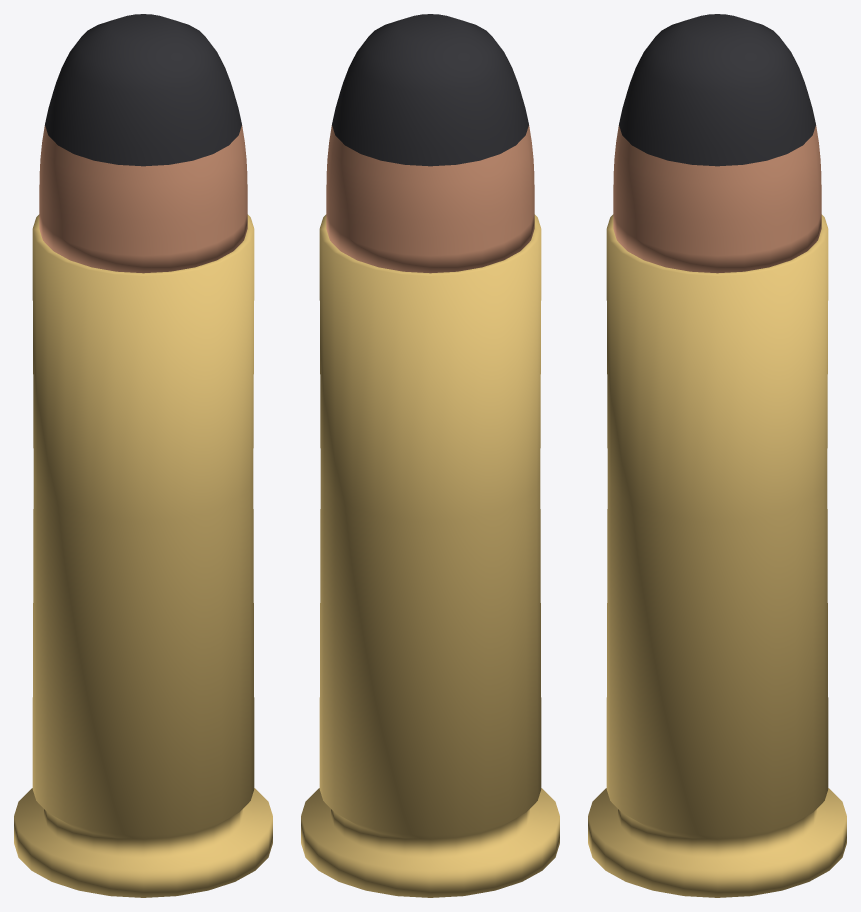
3 views of the same model, side by side, from view 1: azimuth 30°, elevation 25°; view 2: azimuth 150°, elevation 25°; view 3: azimuth 270°, elevation 25° (orthographic).
Visible parts, largest first — view 1: vaina, punta, bala_cuerpo; view 2: vaina, punta, bala_cuerpo; view 3: vaina, punta, bala_cuerpo.
Part boxes in pixels (x1,y1,x2,y2): vaina: (14,214,272,897); punta: (45,14,241,166); bala_cuerpo: (39,125,247,273); vaina: (301,214,559,897); punta: (332,14,528,166); bala_cuerpo: (326,125,534,273); vaina: (588,214,846,897); punta: (619,14,815,166); bala_cuerpo: (613,125,821,273).
Size of the model in its own units: 0.0112 by 0.0389 by 0.0112.
